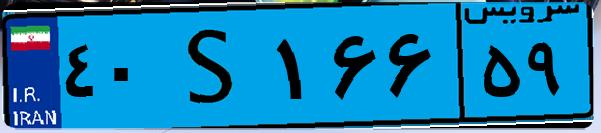0: (110, 28, 158, 98)
1: (270, 28, 330, 110)
4: (57, 26, 110, 100)
5: (475, 38, 525, 113)
6: (385, 28, 445, 110), (330, 28, 385, 110)
9: (525, 38, 570, 115)
S: (158, 12, 270, 120)
